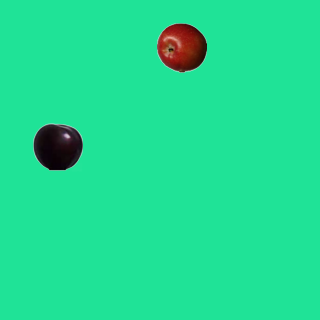Apple Braeburn: (156, 22, 206, 72)
Cherry Wax Black: (32, 121, 82, 171)
